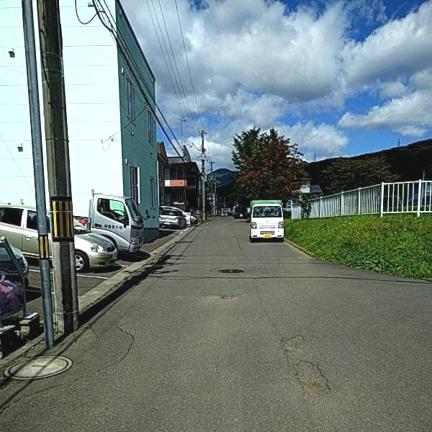Road: (0, 218, 431, 431)
